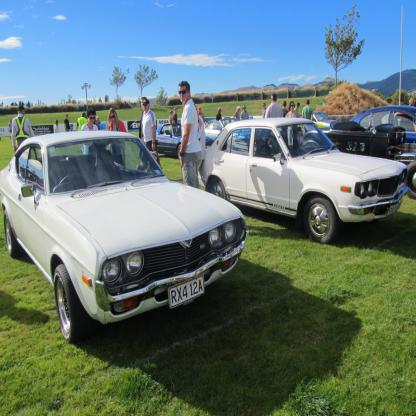Car: (0, 105, 416, 344)
